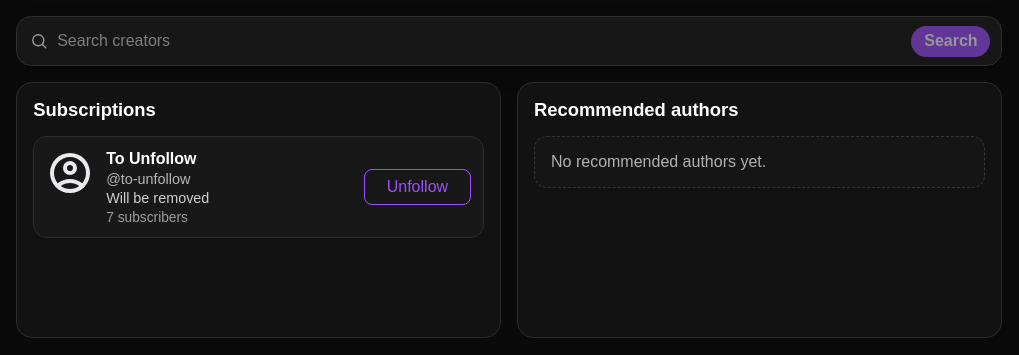
unfollow removes author from subscriptions list without full page reload
Expected: the text "To Unfollow" is shown, [106,149,209,168]
Click the button "Unfollow" at (417,187), box [364,169,471,205]
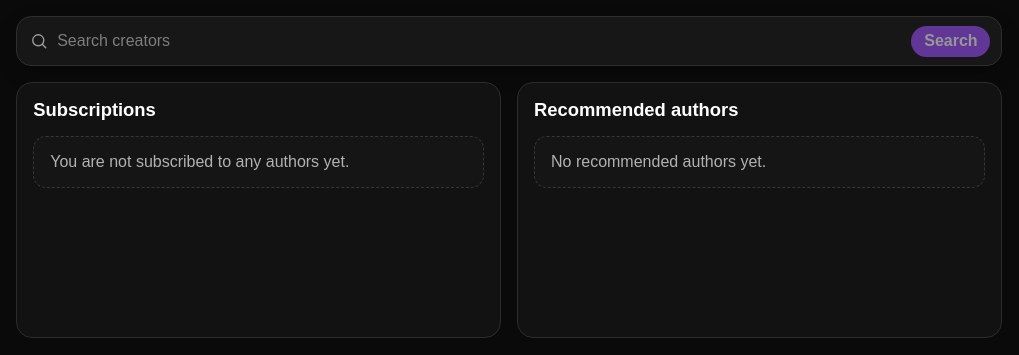
Now the text "You are not subscribed to any authors yet." is shown, box [33,136,484,188]
